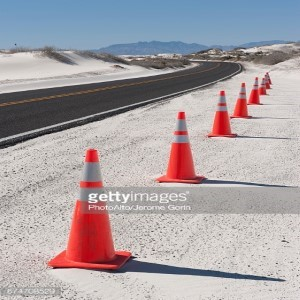traffic cone: (47, 147, 131, 269), (154, 110, 204, 185), (209, 89, 238, 138), (230, 81, 253, 119)
